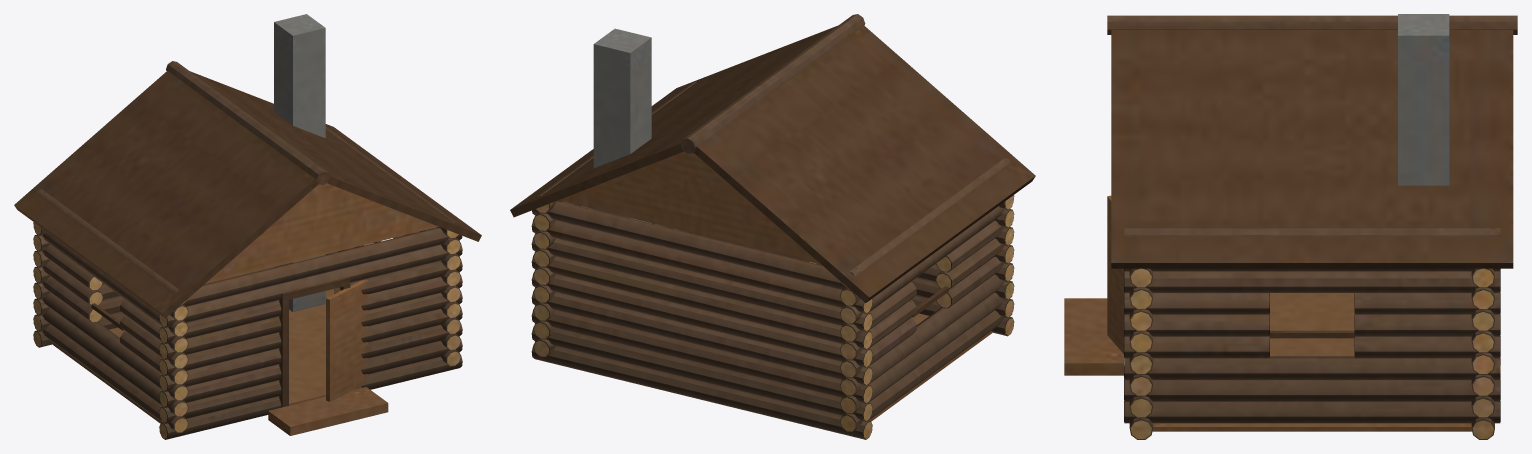
File: cabin.glb
3 views of the same model, side by side, from view 1: azimuth 30°, elevation 25°; view 2: azimuth 150°, elevation 25°; view 3: azimuth 270°, elevation 25° (orthographic). The views are drawn at different scales.
Visible parts, largest first — view 1: cabin; view 2: cabin; view 3: cabin.
Boxes of the visible parts, <box> form: cabin: <box>14,14,481,439</box>; cabin: <box>510,14,1035,439</box>; cabin: <box>1064,14,1517,439</box>.
Size of the model in its own units: 5.86 by 4.9 by 5.3.
5 materials, 5 textured.
